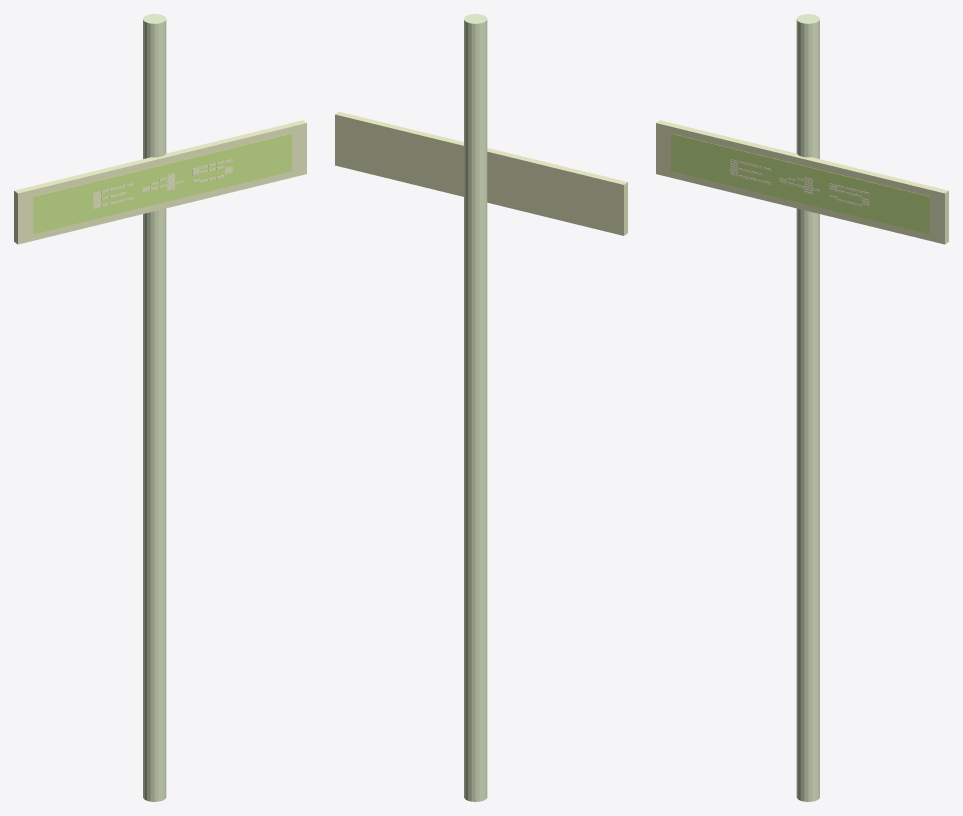
File: sign_route_e45_shield.glb
3 views of the same model, side by side, from view 1: azimuth 30°, elevation 25°; view 2: azimuth 150°, elevation 25°; view 3: azimuth 330°, elevation 25° (orthographic).
Visible parts, largest first — view 1: pole, layer_1_00, plate_base_00; view 2: pole, plate_base_00; view 3: pole, layer_1_00, plate_base_00.
Boxes of the visible parts, box(x1,y1,x2,y2) form: pole: box(143, 14, 166, 801); layer_1_00: box(33, 133, 291, 234); plate_base_00: box(14, 120, 306, 244); pole: box(464, 14, 487, 801); plate_base_00: box(335, 111, 627, 235); pole: box(796, 14, 819, 801); layer_1_00: box(671, 133, 929, 234); plate_base_00: box(656, 120, 948, 244).
Bounding box in the file's own units: 0.855 × 2.2 × 0.0725.
